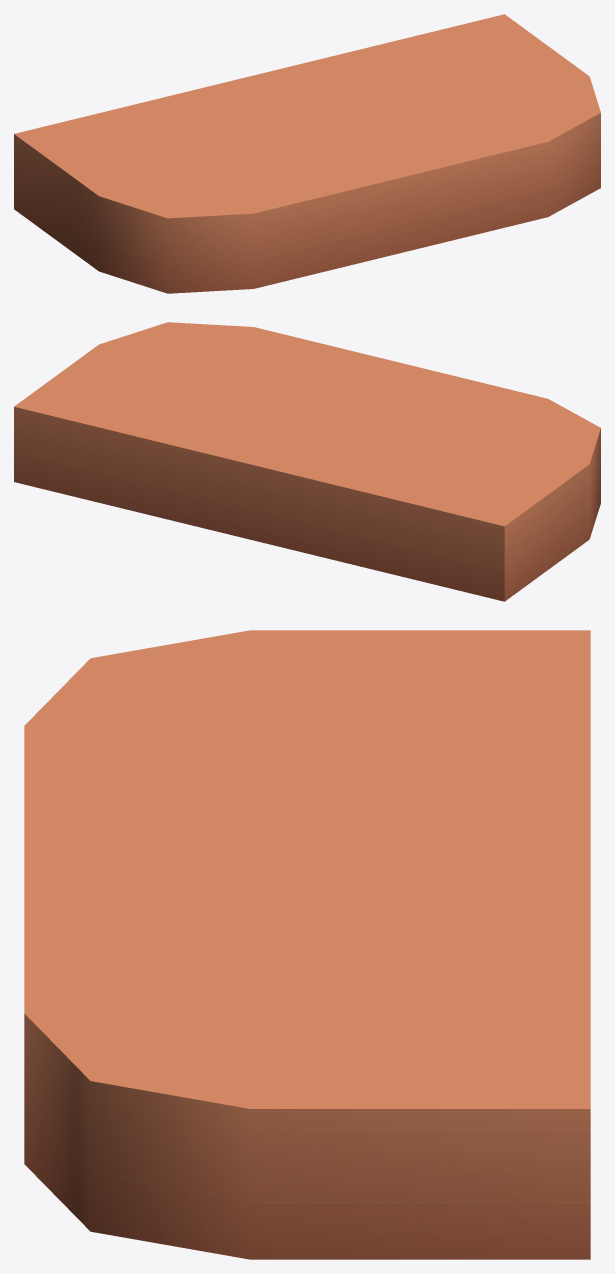
Rendered from block-borders.glb.
The picture shows the model from 3 angles, top to bottom: view 1: azimuth 30°, elevation 25°; view 2: azimuth 150°, elevation 25°; view 3: azimuth 270°, elevation 25°; orthographic projection. The views are drawn at different scales.
Visible parts, largest first — view 1: block-borders; view 2: block-borders; view 3: block-borders.
Part boxes in pixels (x1,y1,x2,y2): block-borders: [14, 14, 600, 293]; block-borders: [14, 322, 600, 601]; block-borders: [24, 630, 590, 1259].
Size of the model in its own units: 0.9999 by 0.1467 by 0.4999.
1 material, 1 textured.
